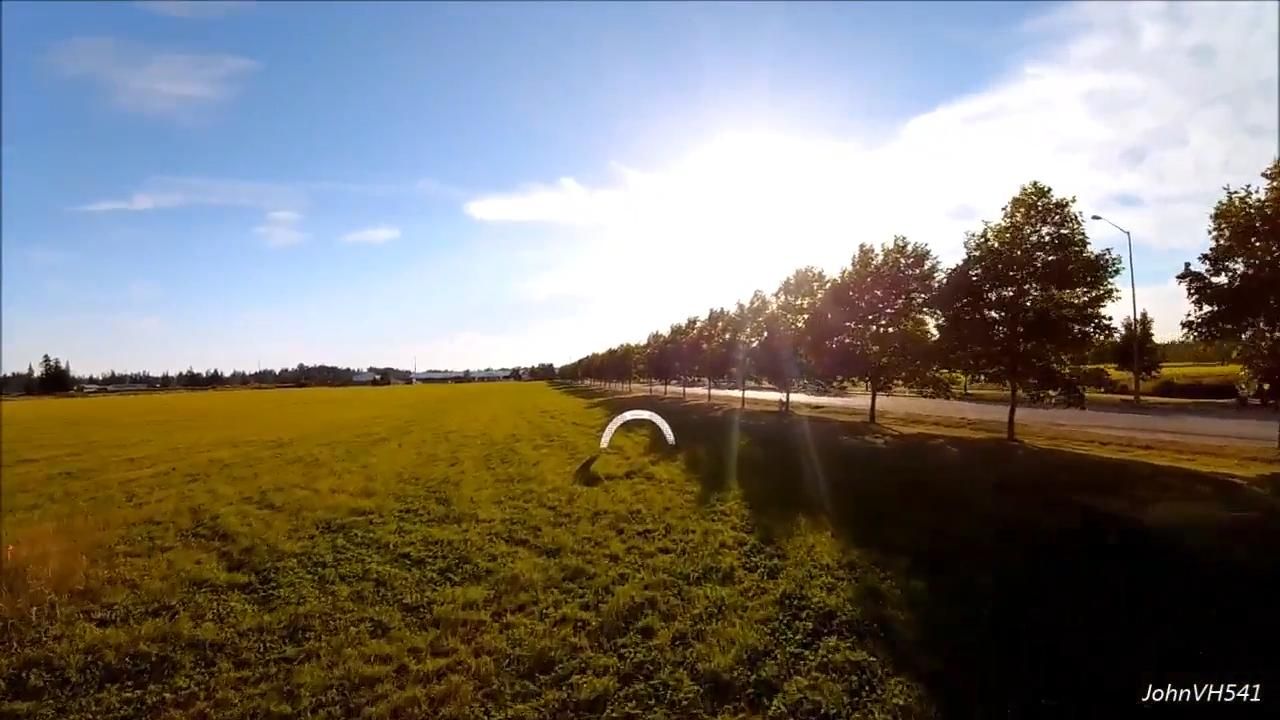gate: (599, 410, 678, 452)
